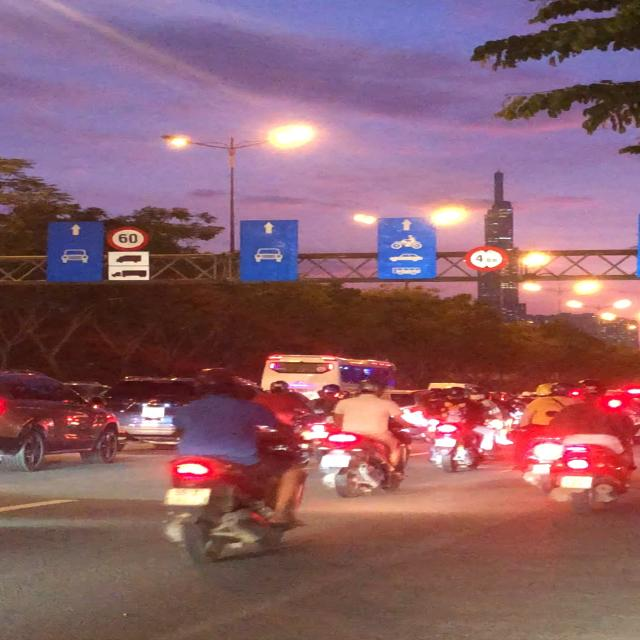Bien bao han che chieu cao: (465, 242, 511, 273)
Bien bao toc do toi da cho phep: (102, 223, 152, 253)
